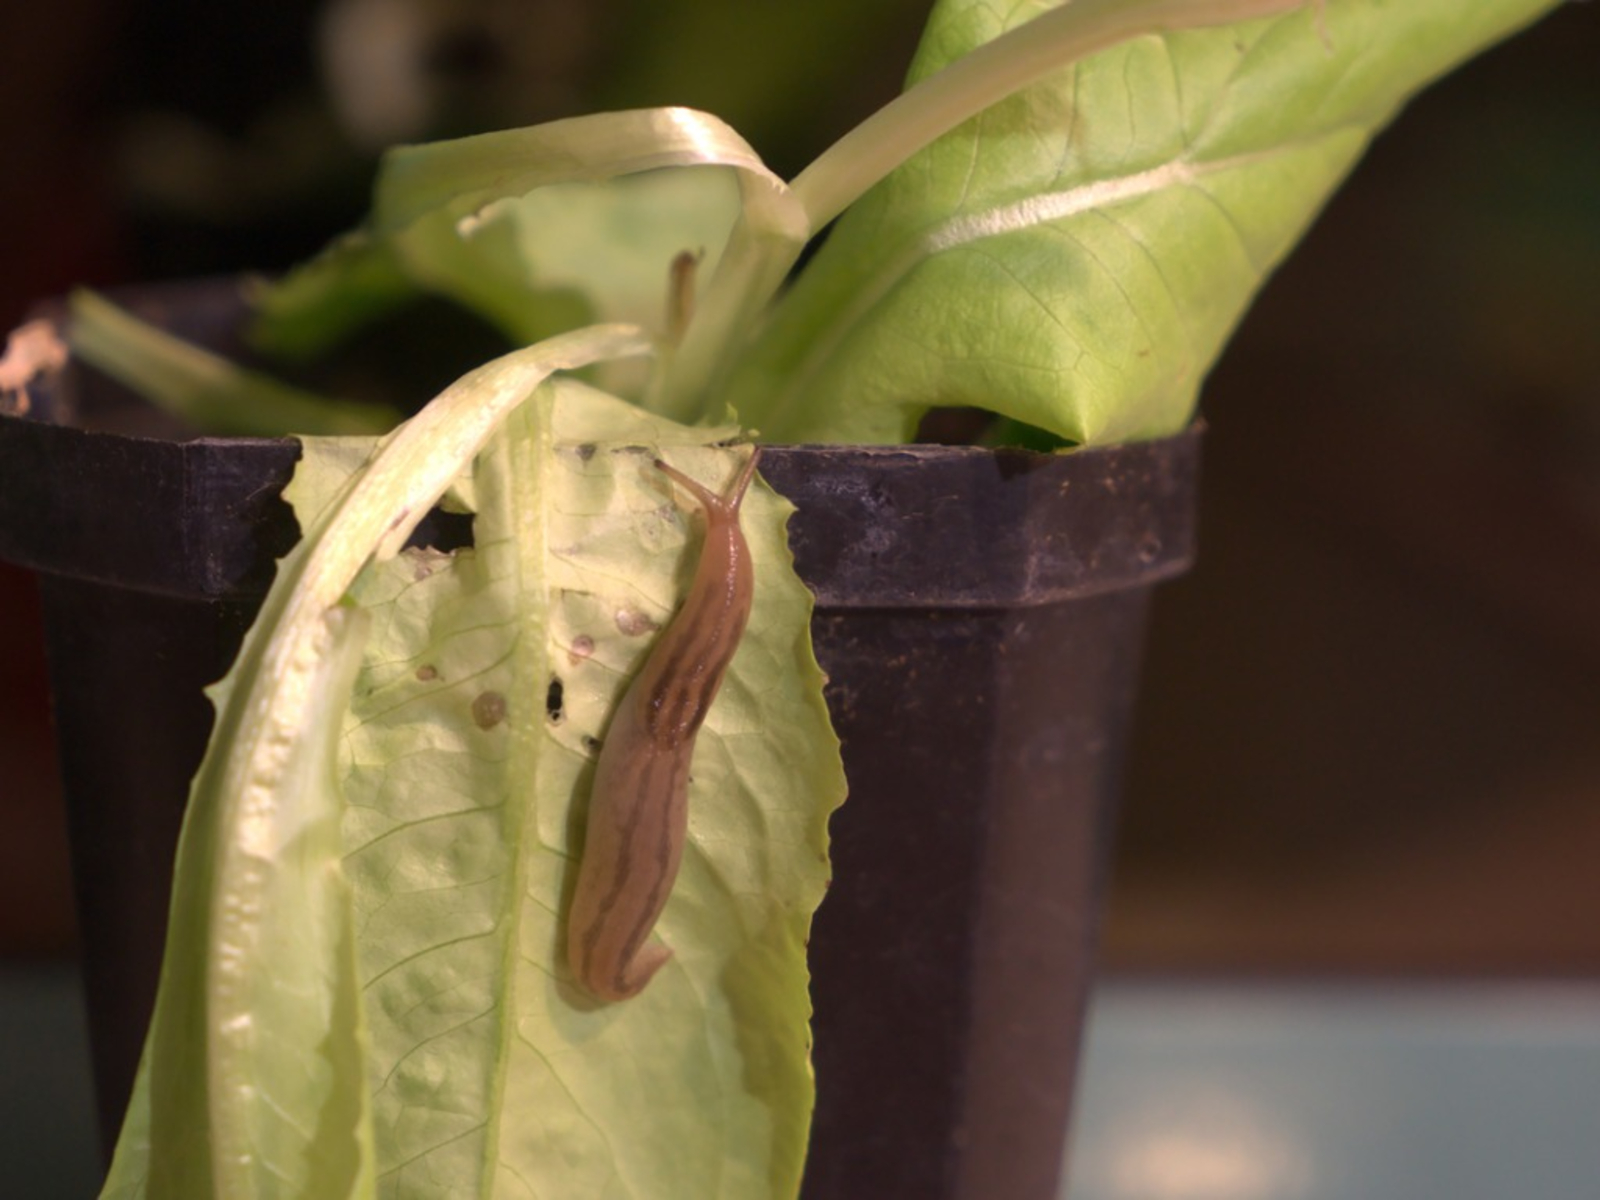slug: (568, 451, 770, 1010)
